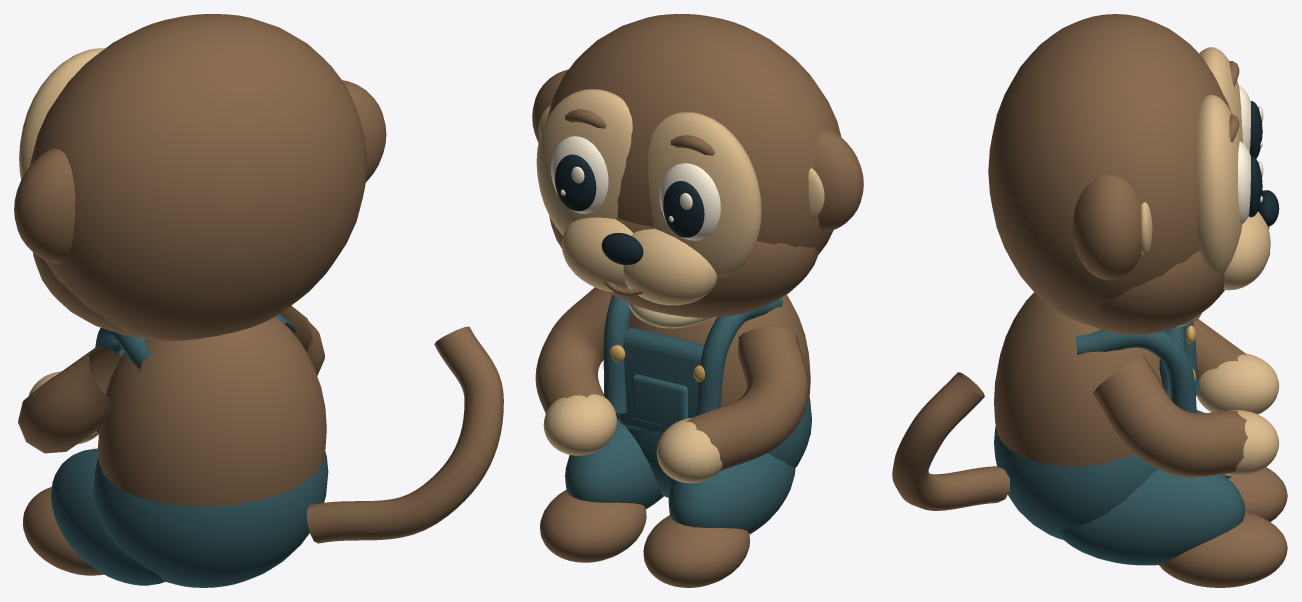
File: singe.glb
The picture shows the model from 3 angles, left to right: view 1: azimuth 30°, elevation 25°; view 2: azimuth 150°, elevation 25°; view 3: azimuth 270°, elevation 25°; orthographic projection. The views are drawn at different scales.
Visible parts, largest first — view 1: Crâne, Buste, Salopette, Oreille, Chaussure, Conque; view 2: Crâne, Salopette, Conque, Buste, Chaussure, Patte, Oreille, Blanc, Blanc.001, Iris.001, Iris, Nez (+1 smaller); view 3: Crâne, Buste, Salopette, Conque, Chaussure, Oreille, Patte, Blanc.001, Iris.001, Blanc, Iris, Nez.
Boxes of the visible parts, x1,y1,x2,y2 form: Crâne: (29,14,367,341); Buste: (18,305,503,543); Salopette: (51,314,328,587); Oreille: (14,80,386,263); Chaussure: (23,487,103,575); Conque: (19,48,104,179); Crâne: (547,14,841,317); Salopette: (565,295,811,534); Conque: (536,89,824,305); Buste: (535,287,810,470); Chaussure: (540,490,749,587); Patte: (543,394,722,483); Oreille: (532,69,863,295); Blanc: (659,163,720,240); Blanc.001: (551,136,608,213); Iris.001: (555,154,596,211); Iris: (663,181,704,237); Nez: (601,233,643,264); Crâne: (988,14,1231,334); Buste: (892,292,1247,510); Salopette: (994,322,1245,565); Conque: (1141,47,1270,290); Chaussure: (1159,467,1287,587); Oreille: (1072,61,1269,280); Patte: (1196,353,1279,476); Blanc.001: (1238,141,1263,224); Iris.001: (1248,156,1262,217); Blanc: (1239,86,1263,152); Iris: (1249,101,1262,158); Nez: (1258,190,1279,226).
Bounding box in the file's own units: 1.46 × 2.05 × 1.4.
